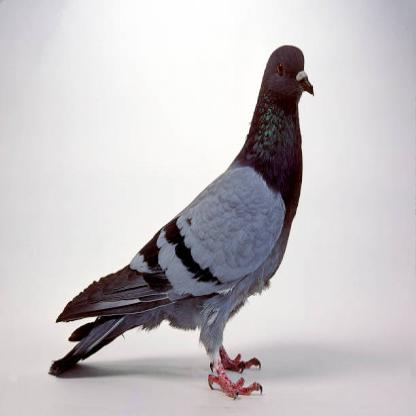Flying Rat: (20, 36, 326, 416)
